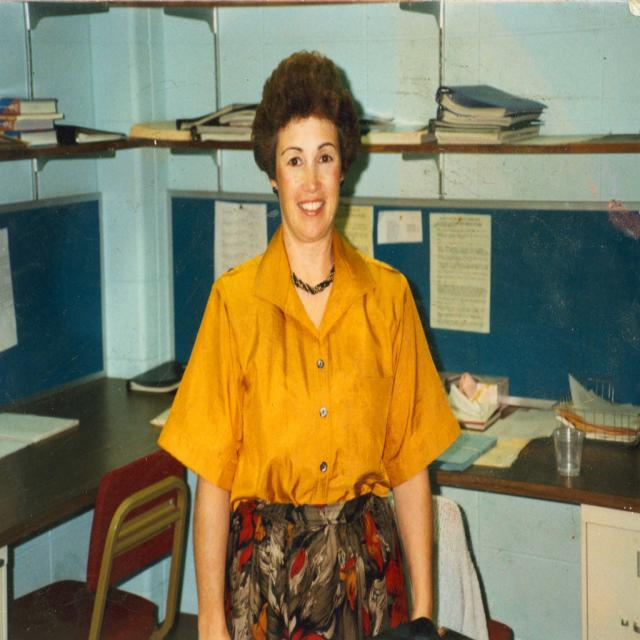chair: (8, 453, 191, 638)
desk: (0, 375, 639, 639)
person: (158, 46, 460, 640)
